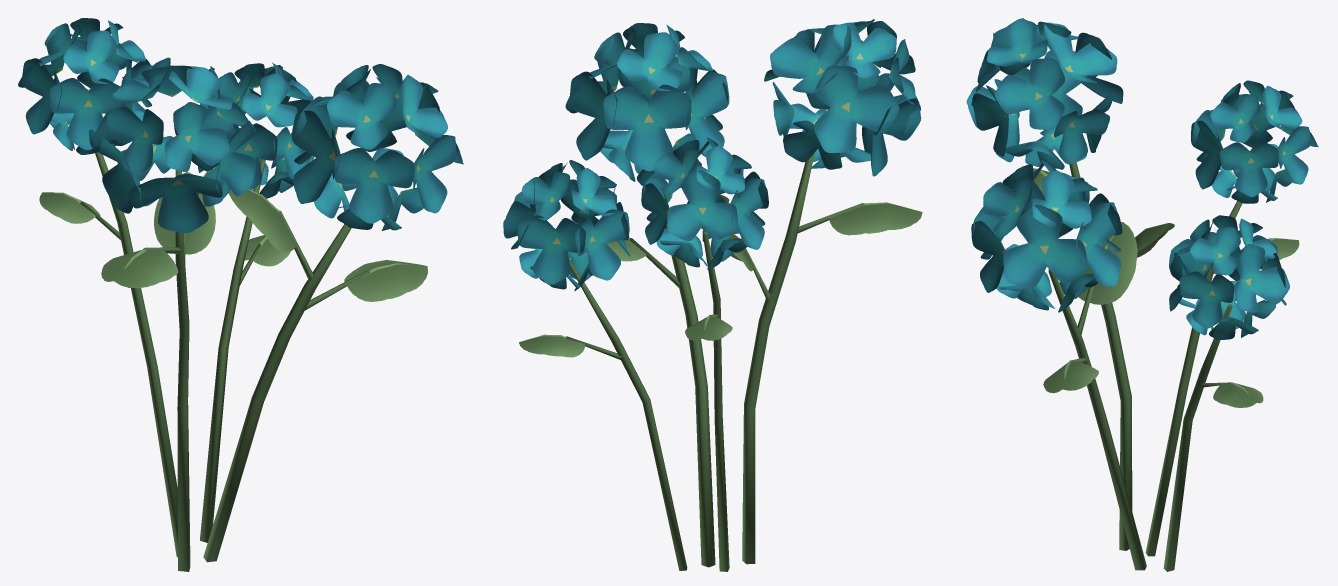
The model's file is flower_1_clump.glb.
3 renders of one model, left to right at view 1: azimuth 30°, elevation 25°; view 2: azimuth 150°, elevation 25°; view 3: azimuth 270°, elevation 25°, orthographic. The views are drawn at different scales.
Visible parts, largest first — view 1: Flower_1_Clump; view 2: Flower_1_Clump; view 3: Flower_1_Clump.
Boxes of the visible parts, x1=… form: Flower_1_Clump: x1=18, y1=18, x2=463, y2=571; Flower_1_Clump: x1=503, y1=19, x2=922, y2=571; Flower_1_Clump: x1=966, y1=18, x2=1318, y2=571.
Size of the model in its own units: 0.4711 by 0.6713 by 0.4352.
1 material, 1 textured.
